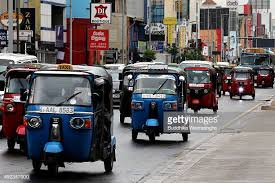tuk tuk: (25, 65, 118, 180), (130, 67, 191, 144), (3, 63, 25, 152), (185, 65, 220, 113), (229, 66, 256, 100), (256, 66, 274, 89), (222, 64, 230, 96)
